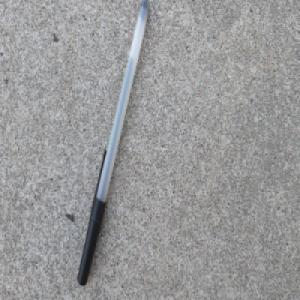Pen: (76, 0, 150, 286)
